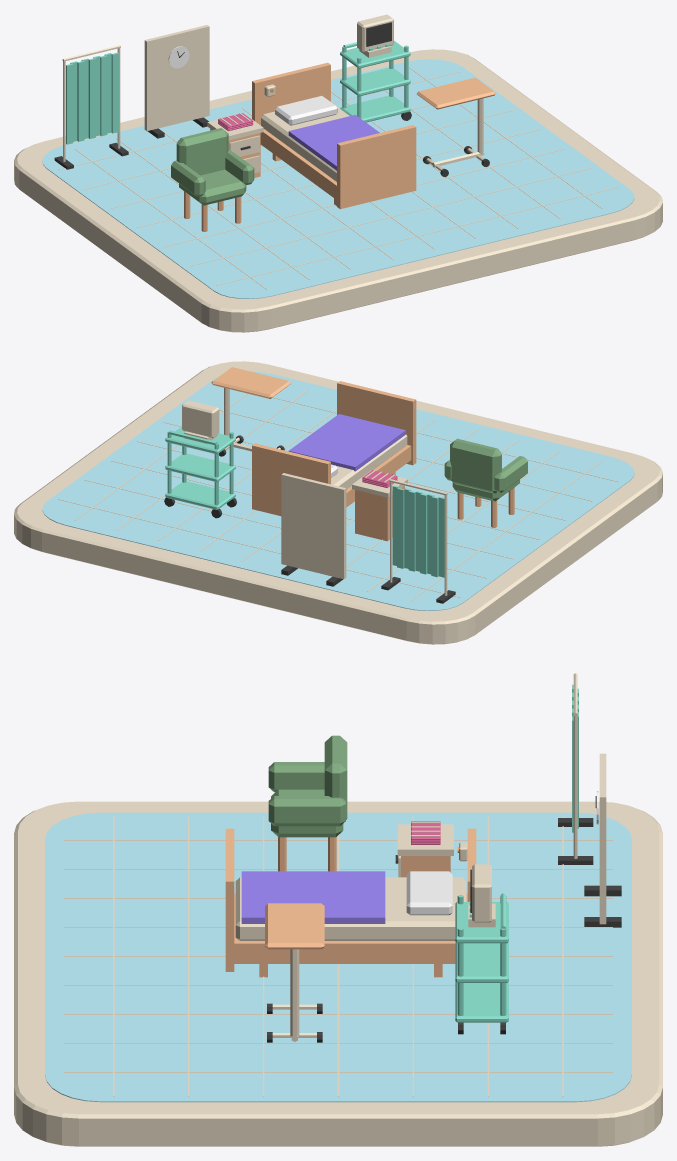
Rendered from room.fbx.
3 renders of one model, top to bottom at view 1: azimuth 30°, elevation 25°; view 2: azimuth 150°, elevation 25°; view 3: azimuth 270°, elevation 25°, orthographic. The views are drawn at different scales.
Parts seen in each view (by area): view 1: COM-02 Floor Surface, COM-01 Rounded Base Direct, Panel, End board, End board.001, Blanket, Back, Mattress, Table top, Frame, Cushion, Pillow (+15 smaller); view 2: COM-02 Floor Surface, COM-01 Rounded Base Direct, Panel, Blanket, End board.001, End board, Back, Body, Table top, Housing, Tray, Tray.001 (+12 smaller); view 3: COM-02 Floor Surface, COM-01 Rounded Base Direct, Blanket, Mattress, Frame, Table top, Arm.001, Pillow, Tray, Tray.001, Arm, Back (+9 smaller).
Boxes of the visible parts, bbox=[...] form: COM-02 Floor Surface: bbox=[42, 59, 634, 298]; COM-01 Rounded Base Direct: bbox=[14, 49, 662, 332]; Panel: bbox=[144, 25, 209, 130]; End board: bbox=[337, 125, 416, 209]; End board.001: bbox=[252, 62, 330, 145]; Blanket: bbox=[288, 115, 379, 170]; Back: bbox=[176, 128, 228, 175]; Mattress: bbox=[261, 101, 349, 181]; Table top: bbox=[417, 77, 495, 109]; Frame: bbox=[260, 129, 336, 199]; Cushion: bbox=[179, 169, 246, 205]; Pillow: bbox=[275, 96, 337, 125]; COM-02 Floor Surface: bbox=[42, 371, 634, 610]; COM-01 Rounded Base Direct: bbox=[14, 361, 662, 644]; Panel: bbox=[281, 473, 346, 579]; Blanket: bbox=[288, 414, 405, 471]; End board.001: bbox=[252, 443, 330, 515]; End board: bbox=[337, 381, 416, 465]; Back: bbox=[450, 438, 501, 493]; Body: bbox=[355, 486, 404, 541]; Table top: bbox=[211, 367, 290, 398]; Housing: bbox=[182, 400, 219, 437]; Tray: bbox=[165, 481, 235, 509]; Tray.001: bbox=[165, 453, 235, 482]; COM-02 Floor Surface: bbox=[45, 812, 631, 1102]; COM-01 Rounded Base Direct: bbox=[14, 801, 662, 1146]; Blanket: bbox=[241, 871, 385, 923]; Mattress: bbox=[235, 877, 466, 940]; Frame: bbox=[234, 893, 467, 963]; Table top: bbox=[265, 903, 324, 949]; Arm.001: bbox=[268, 796, 345, 826]; Pillow: bbox=[406, 871, 452, 915]; Tray: bbox=[455, 982, 508, 1022]; Tray.001: bbox=[455, 942, 508, 982]; Arm: bbox=[268, 762, 324, 792]; Back: bbox=[324, 735, 347, 819].
Bounding box in the file's own units: 600 × 163 × 520.
